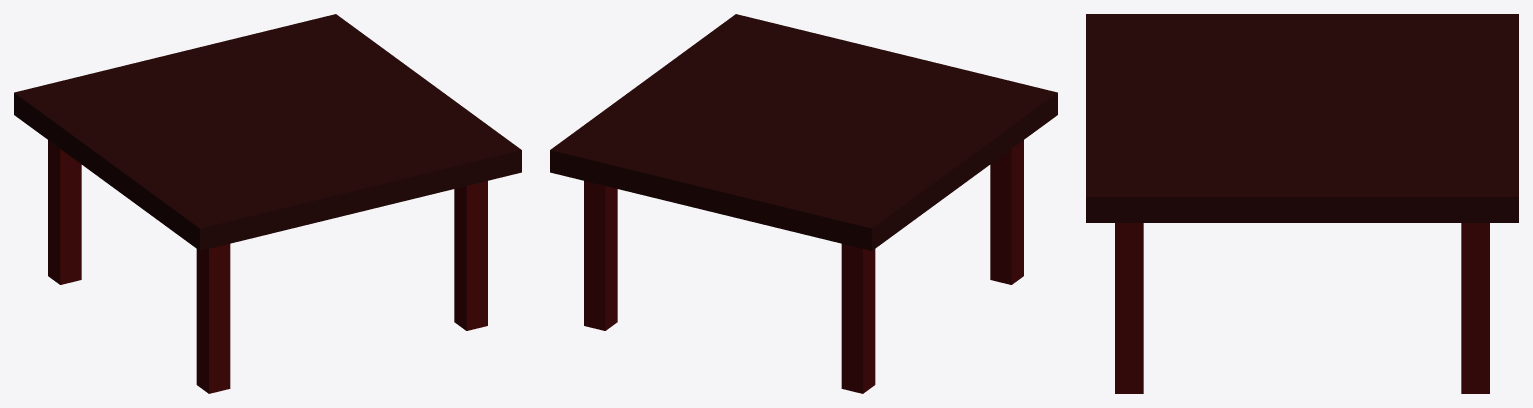
The model's file is table.fbx.
3 views of the same model, side by side, from view 1: azimuth 30°, elevation 25°; view 2: azimuth 150°, elevation 25°; view 3: azimuth 270°, elevation 25° (orthographic). The views are drawn at different scales.
Parts seen in each view (by area): view 1: table; view 2: table; view 3: table.
Boxes of the visible parts, box(x1,y1,x2,y2) form: table: box(14, 14, 521, 393); table: box(550, 14, 1057, 393); table: box(1086, 14, 1518, 393).
Bounding box in the file's own units: 30 × 16 × 30.
1 material, 1 textured.
